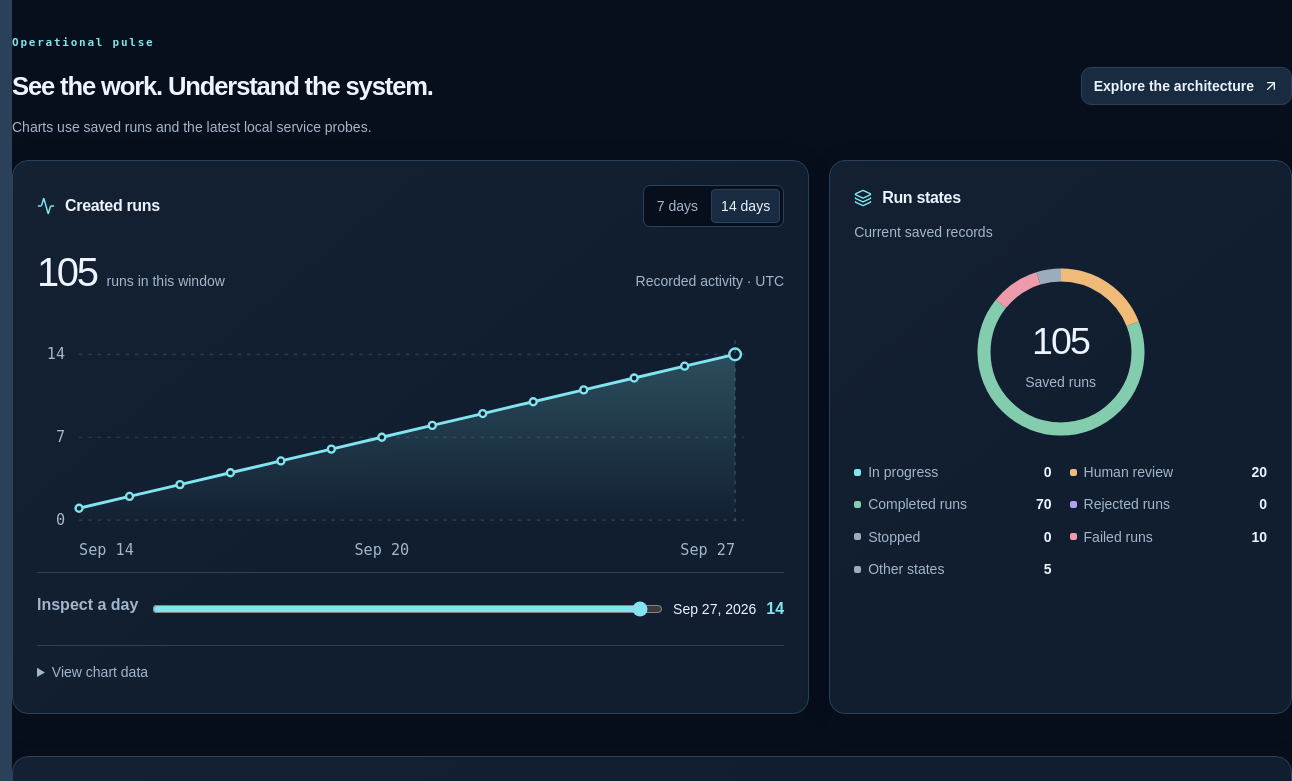
Test: operational insights › provides inspectable dates, counts and a data table independent of SVG sight
The width and height of the screenshot is (1292, 781).
Set the slider labelled "Inspect a day" to "0": {"x": 160, "y": 609} 152,588 -> 663,630
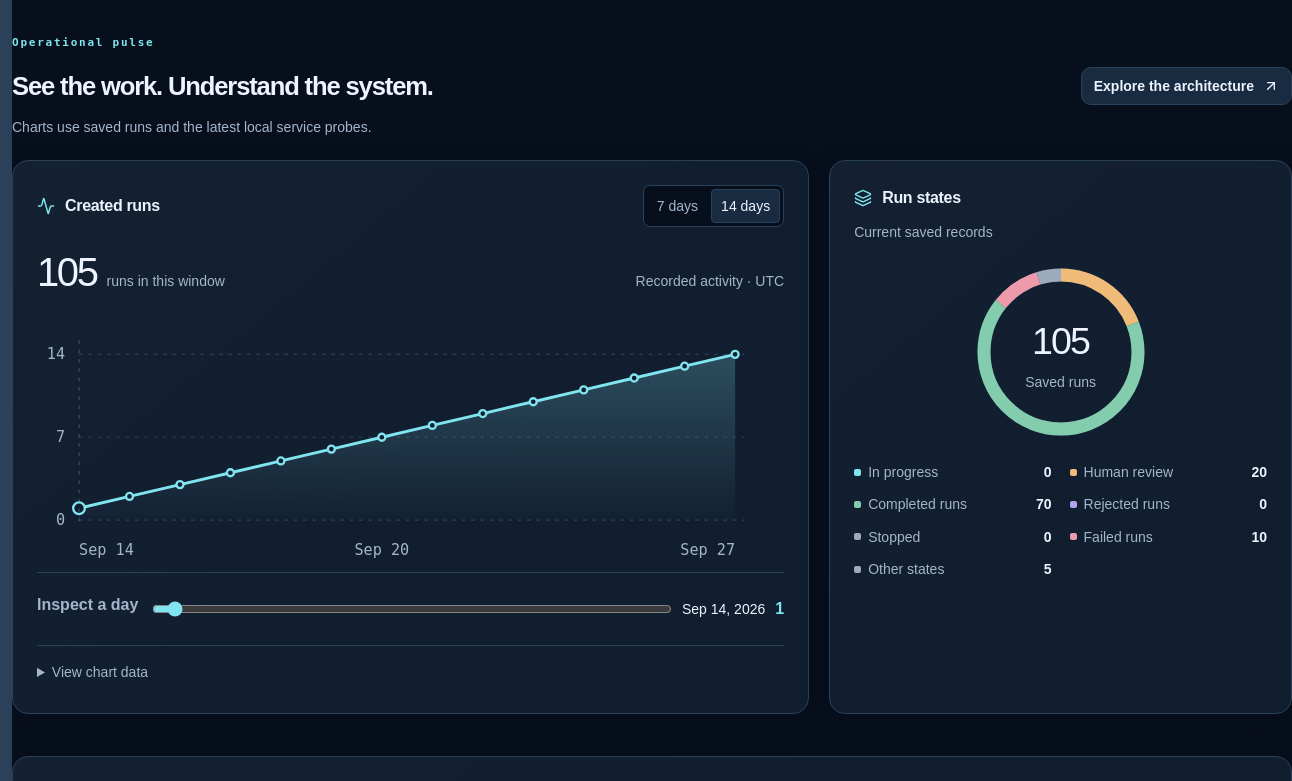
expect the slider labelled "Inspect a day" has attribute aria-valuetext="Sep 14, 2026: 1": met, box 152,588 -> 672,630
Click the heading "View chart data": {"x": 100, "y": 672} 52,664 -> 148,680
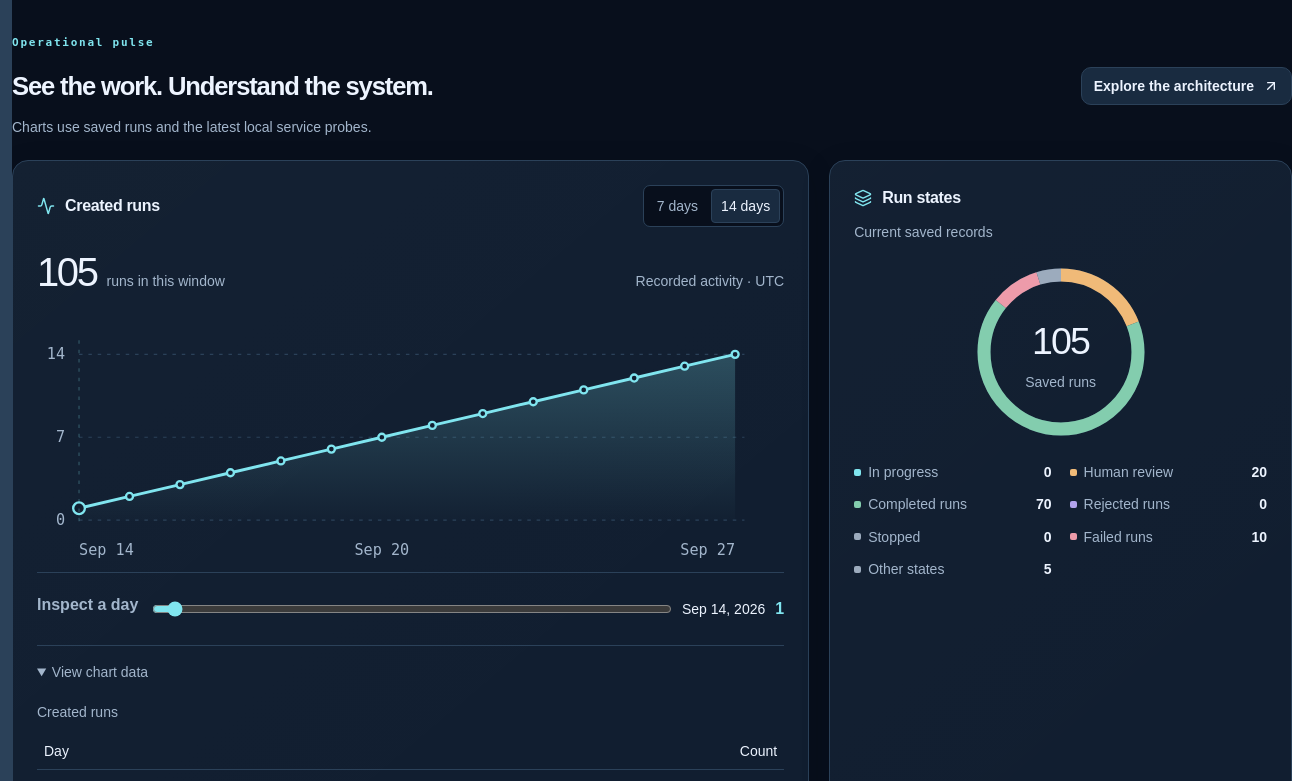
expect the number of rows is 15: met
Click the button "7 days": {"x": 677, "y": 206} 647,189 -> 708,223
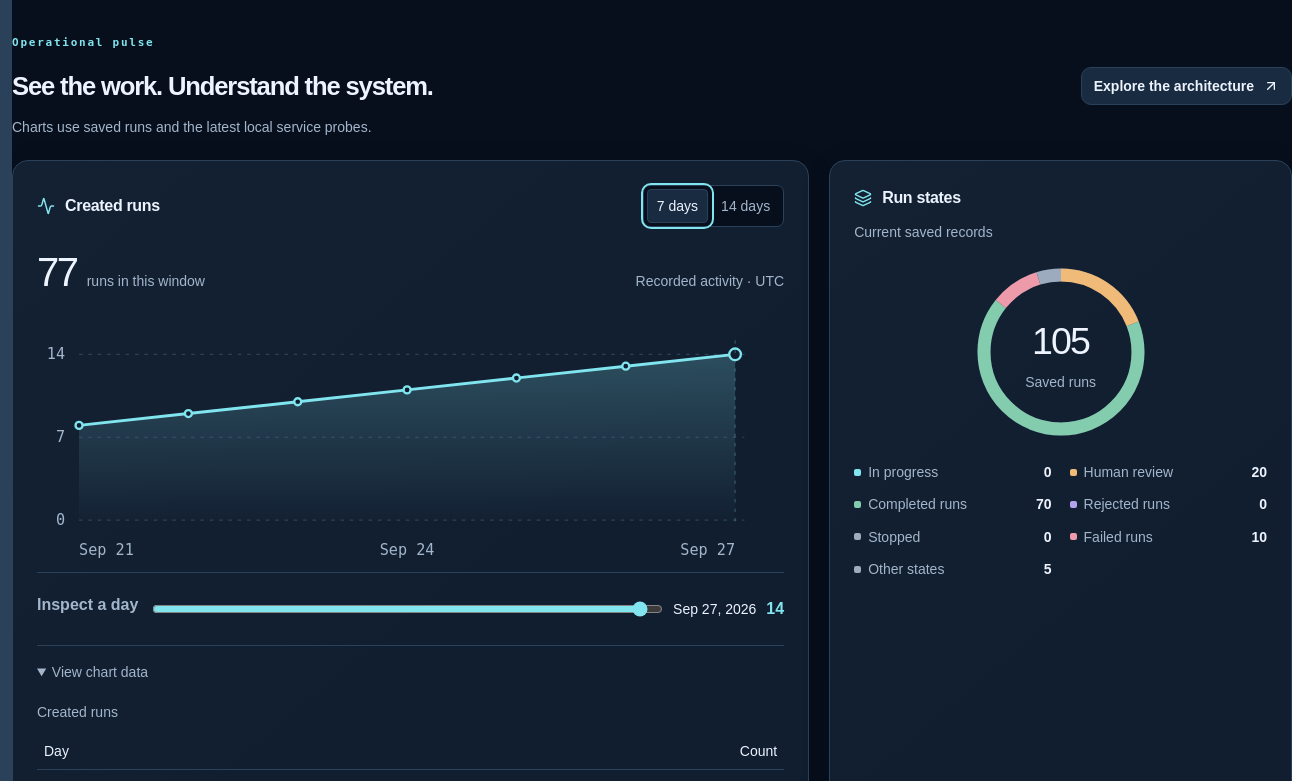
expect the number of rows is 8: met
expect the row "Sep 14, 2026 1" is gone: met
